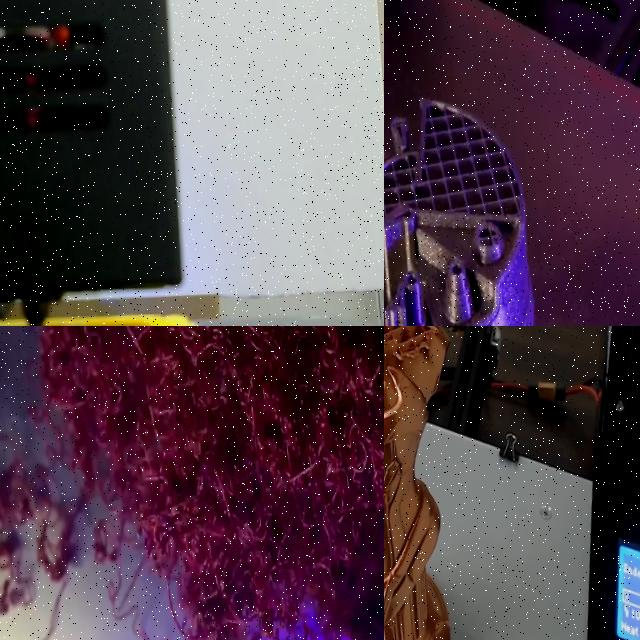spaghetti: (32, 326, 384, 640), (0, 443, 74, 613)
